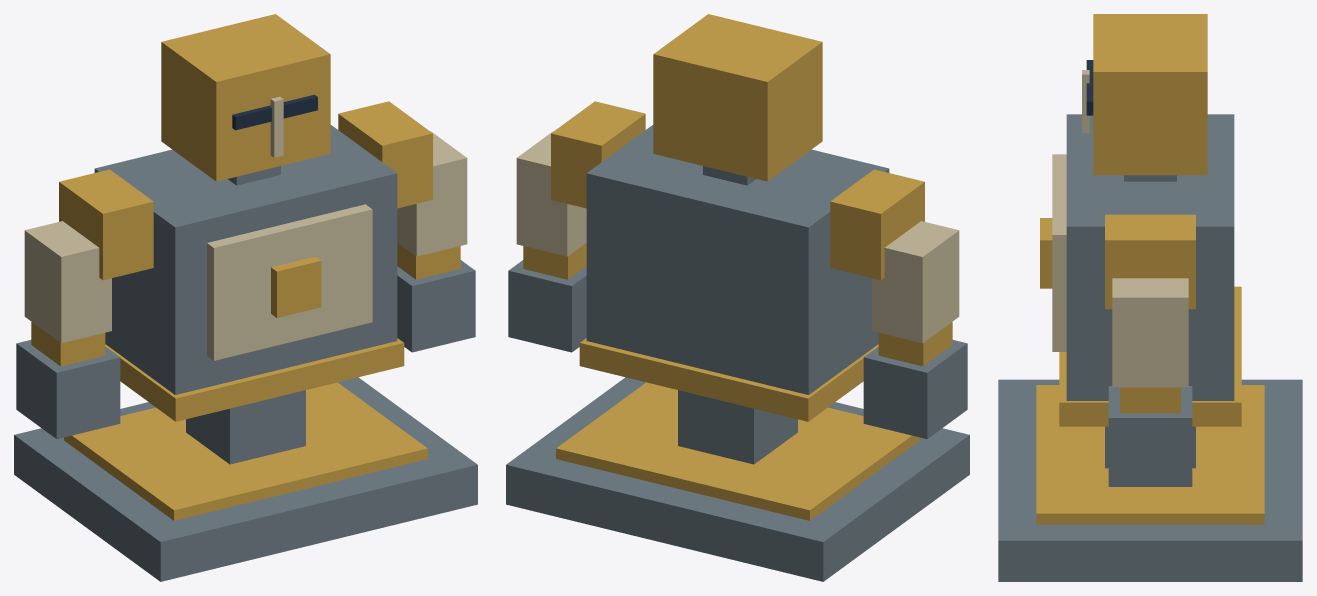
Rendered from trial_arena_sentinel.glb.
3 renders of one model, left to right at view 1: azimuth 30°, elevation 25°; view 2: azimuth 150°, elevation 25°; view 3: azimuth 270°, elevation 25°, orthographic. The views are drawn at different scales.
Parts seen in each view (by area): view 1: trial_arena_sentinel; view 2: trial_arena_sentinel; view 3: trial_arena_sentinel.
Boxes of the visible parts, box(x1,y1,x2,y2) form: trial_arena_sentinel: box(14, 14, 477, 581); trial_arena_sentinel: box(506, 14, 969, 581); trial_arena_sentinel: box(998, 14, 1302, 581).
Size of the model in its own units: 6.6 by 6.65 by 4.
